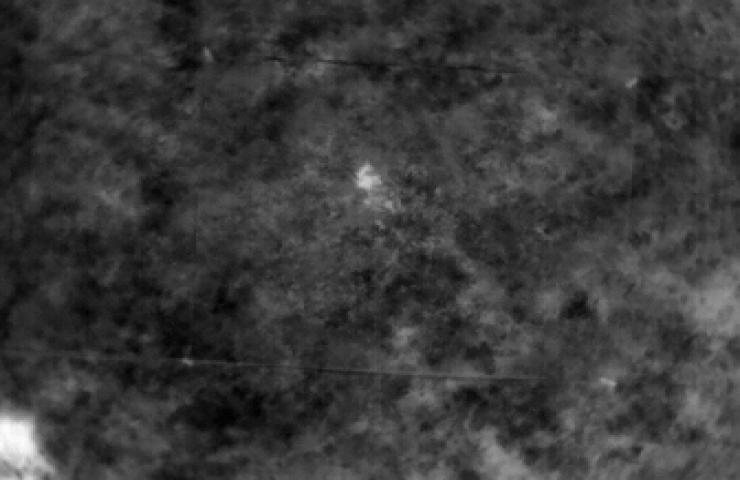landmines: (355, 156, 387, 197)
